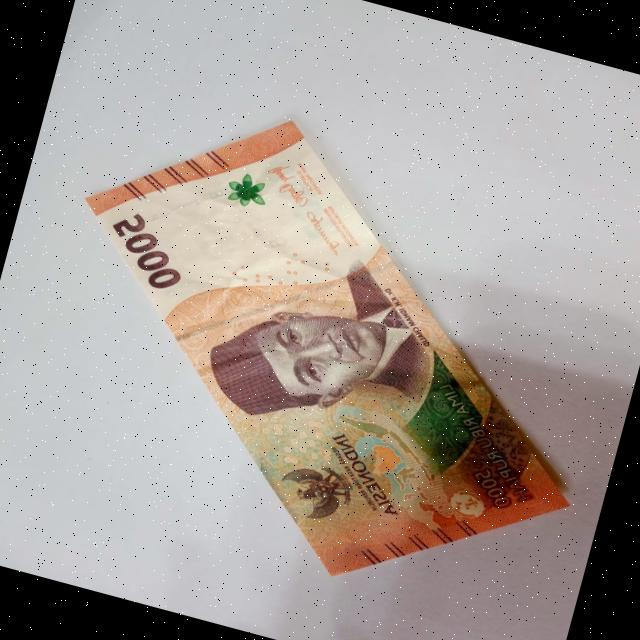5K: (16, 67, 640, 640)
